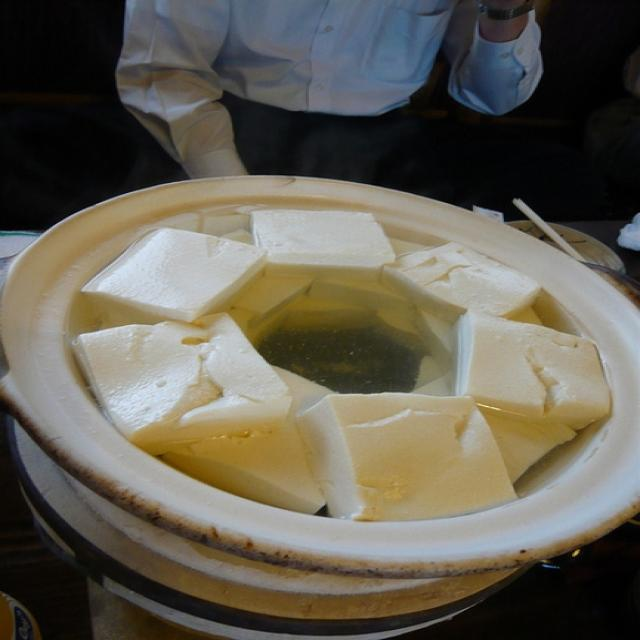豆腐料理: (30, 160, 631, 583)
